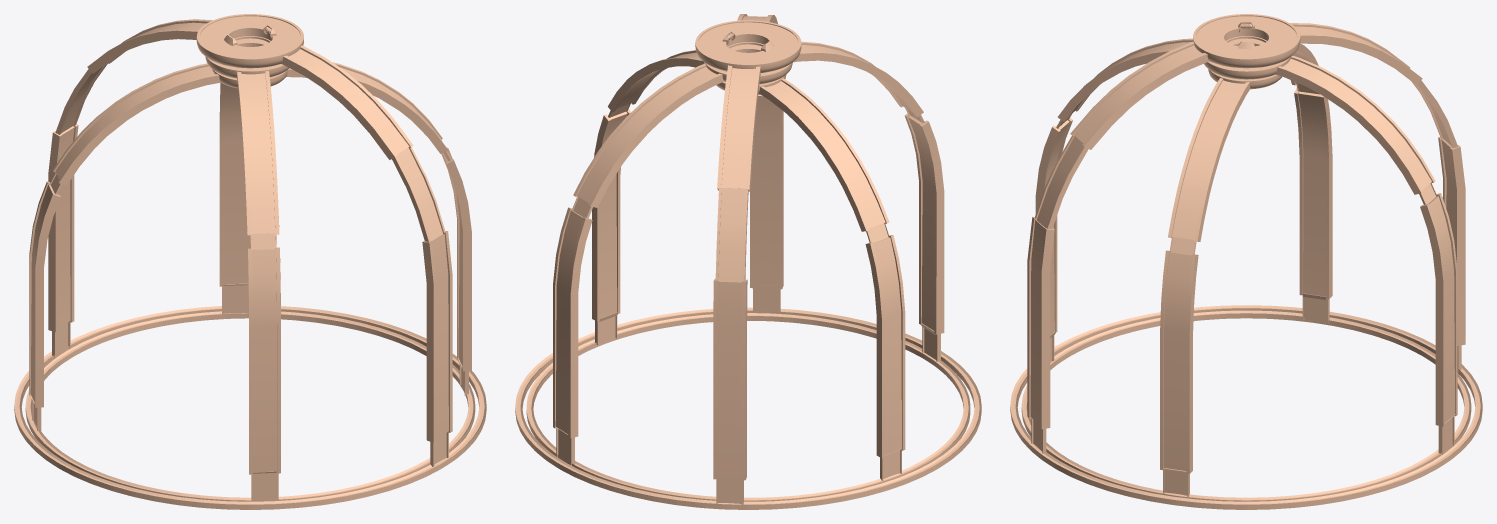
Rendered from Torbogen_02_mesh.fbx.
3 views of the same model, side by side, from view 1: azimuth 30°, elevation 25°; view 2: azimuth 150°, elevation 25°; view 3: azimuth 270°, elevation 25° (orthographic).
Visible parts, largest first — view 1: Cylinder.005, Circle.013, Circle.014, Cylinder.007, Cylinder.006; view 2: Cylinder.005, Circle.013, Circle.014, Cylinder.007, Cylinder.006; view 3: Circle.014, Cylinder.005, Circle.013, Cylinder.007, Cylinder.006.
Boxes of the visible parts, x1,y1,x2,y2 form: Cylinder.005: [48, 14, 452, 466]; Circle.013: [205, 38, 289, 501]; Circle.014: [29, 62, 471, 430]; Cylinder.007: [14, 306, 486, 509]; Cylinder.006: [25, 311, 475, 501]; Cylinder.005: [695, 14, 801, 504]; Circle.013: [553, 41, 944, 465]; Circle.014: [592, 50, 905, 480]; Cylinder.007: [515, 307, 981, 509]; Cylinder.006: [526, 313, 970, 501]; Circle.014: [1160, 43, 1332, 496]; Cylinder.005: [1027, 14, 1465, 453]; Circle.013: [1035, 38, 1457, 454]; Cylinder.007: [1010, 305, 1482, 509]; Cylinder.006: [1021, 310, 1471, 501].
Size of the model in its own units: 196 by 222 by 222.
